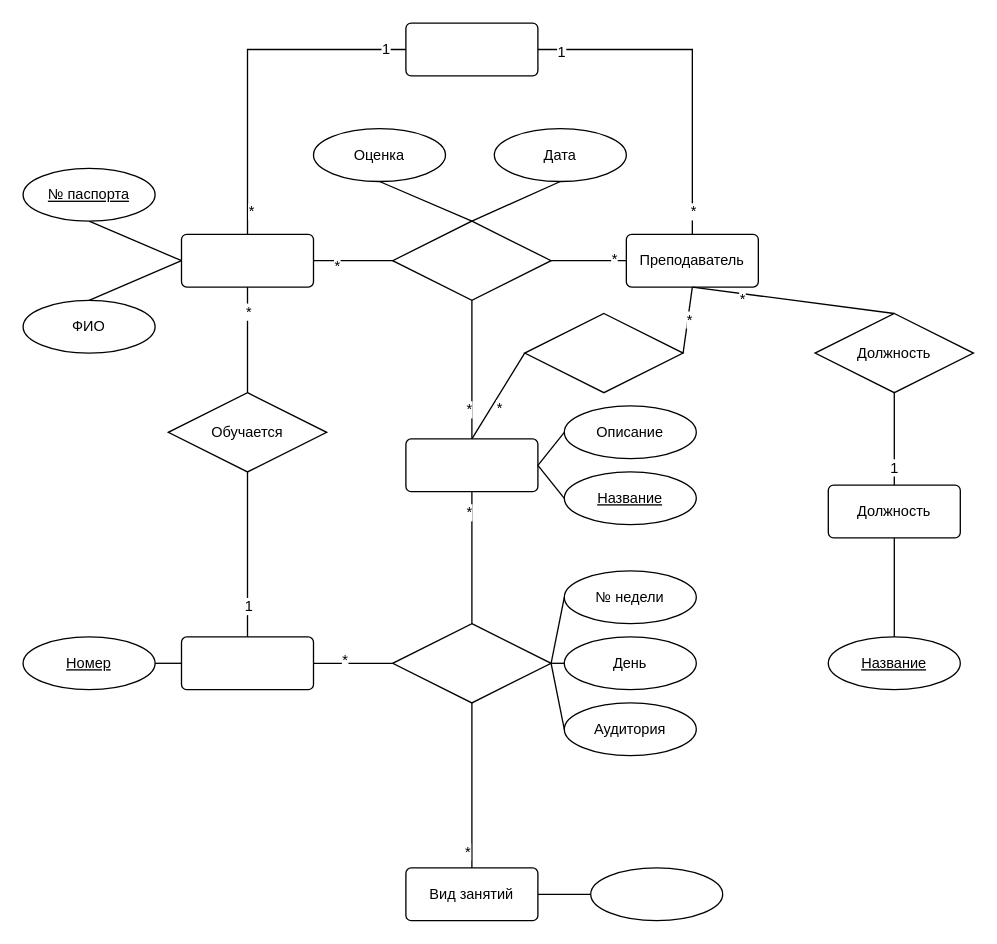
Image size: 997x944. Some labels were removed from this diagram. The shapes that lost their labels are listed below. From the top down, each one's centre as x and y in pixels, then its label:
At pixel 471 49: "Директор".
At pixel 247 260: "Студент".
At pixel 471 260: "Ведомость".
At pixel 603 352: "Нагрузка".
At pixel 471 465: "Дисциплина".
At pixel 247 663: "Группа".
At pixel 471 662: "Расписание".
At pixel 656 894: "Вид".
